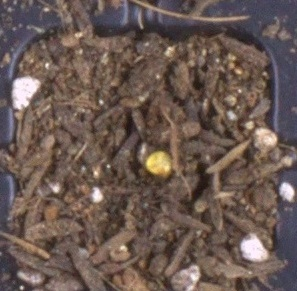chilli seed: (145, 150, 173, 178)
